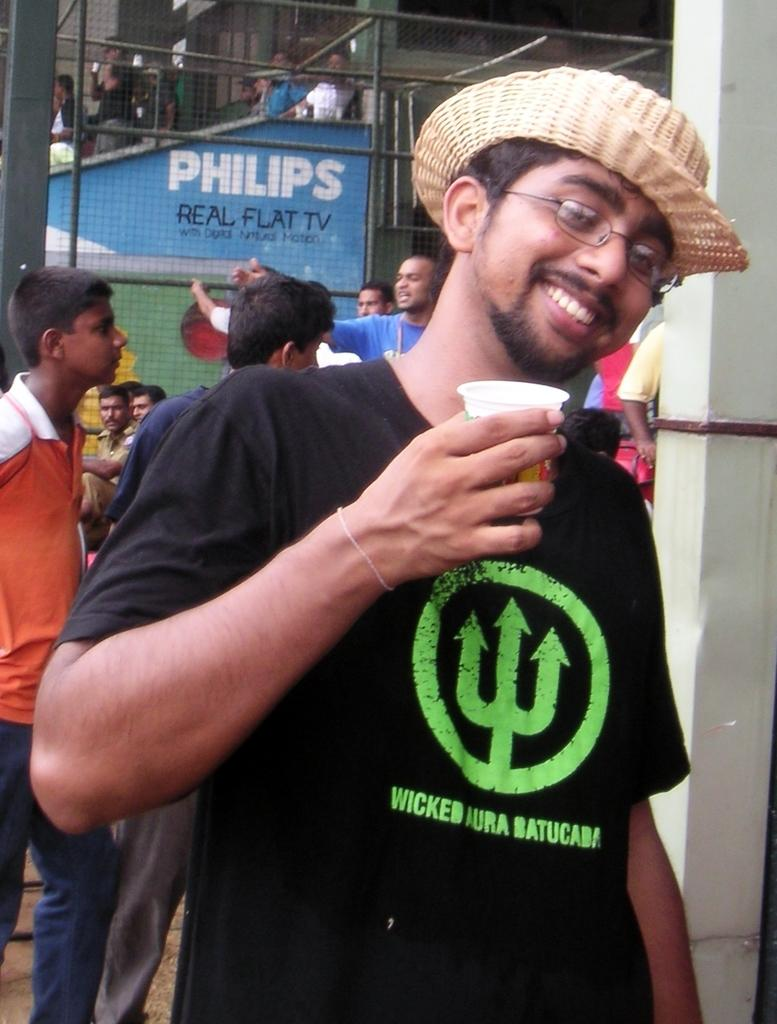Hat: (412, 69, 746, 285)
